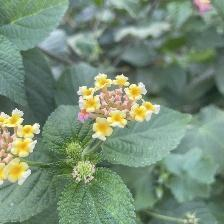common lanthana: (75, 71, 165, 142)
